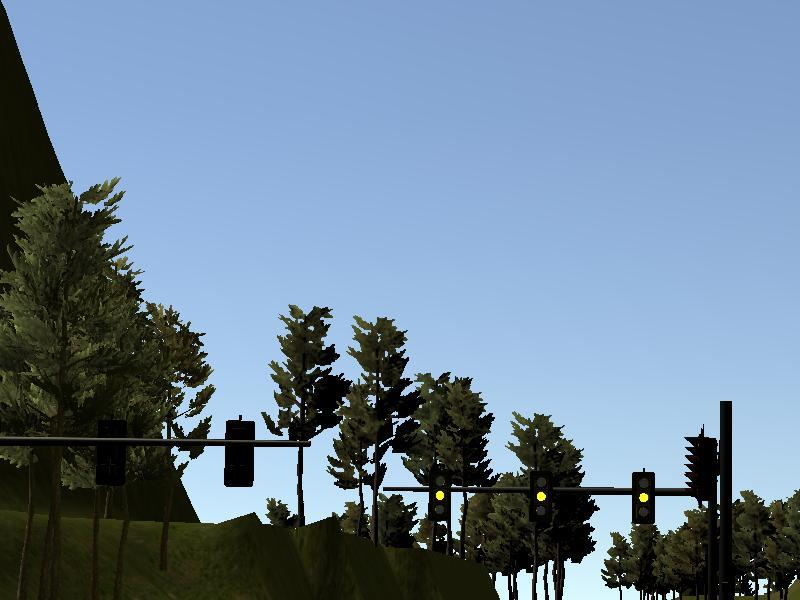Yellow: (632, 472, 655, 524), (429, 470, 451, 521), (530, 471, 552, 522)
